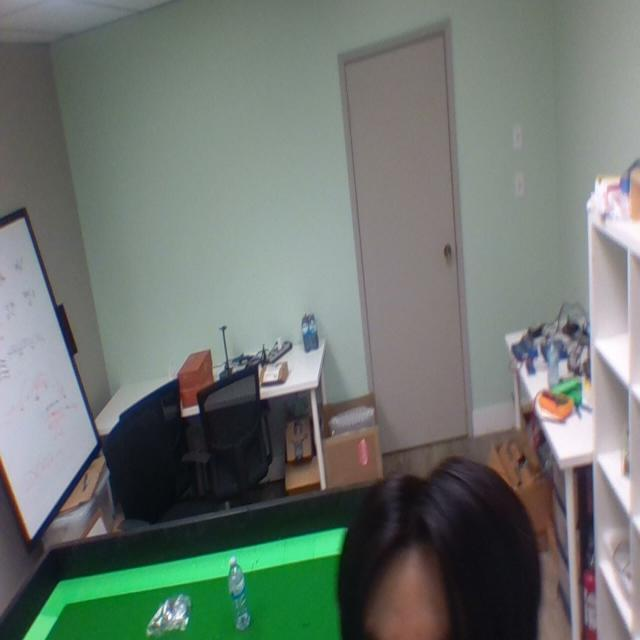chair: (106, 378, 190, 518), (198, 357, 274, 499)
